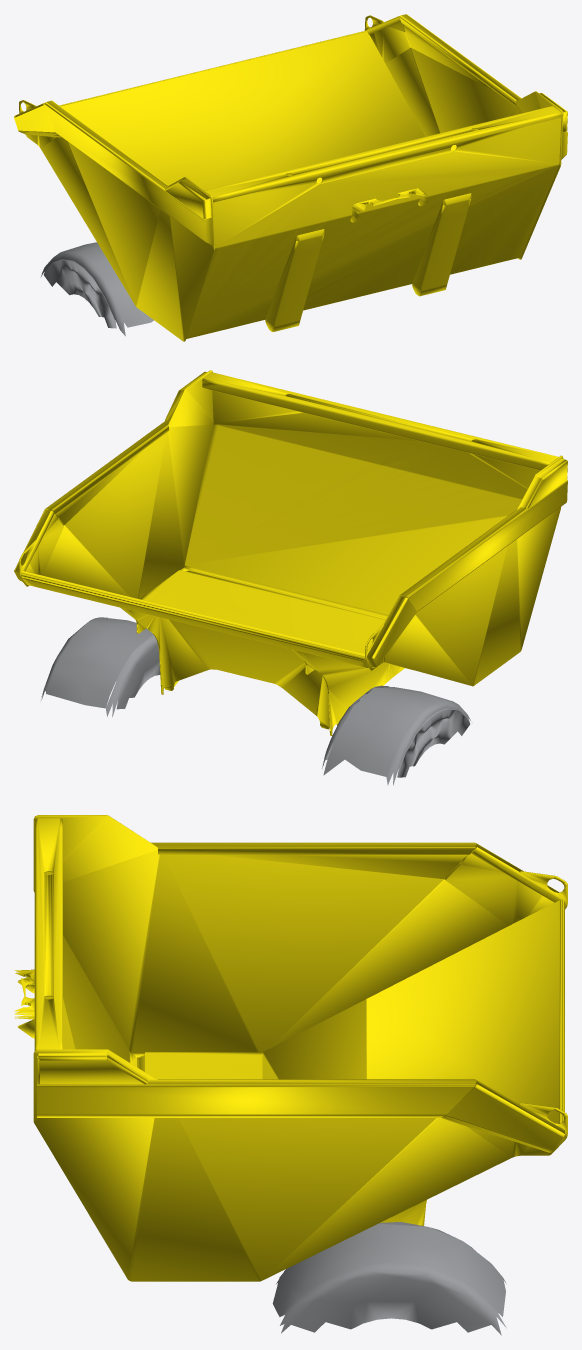
The model's file is dumper-dv-90-dualviewr.benne.glb.
3 views of the same model, one above another, from view 1: azimuth 30°, elevation 25°; view 2: azimuth 150°, elevation 25°; view 3: azimuth 270°, elevation 25° (orthographic). The views are drawn at different scales.
Bounding box in the file's own units: 2.5 × 1.37 × 2.4.
